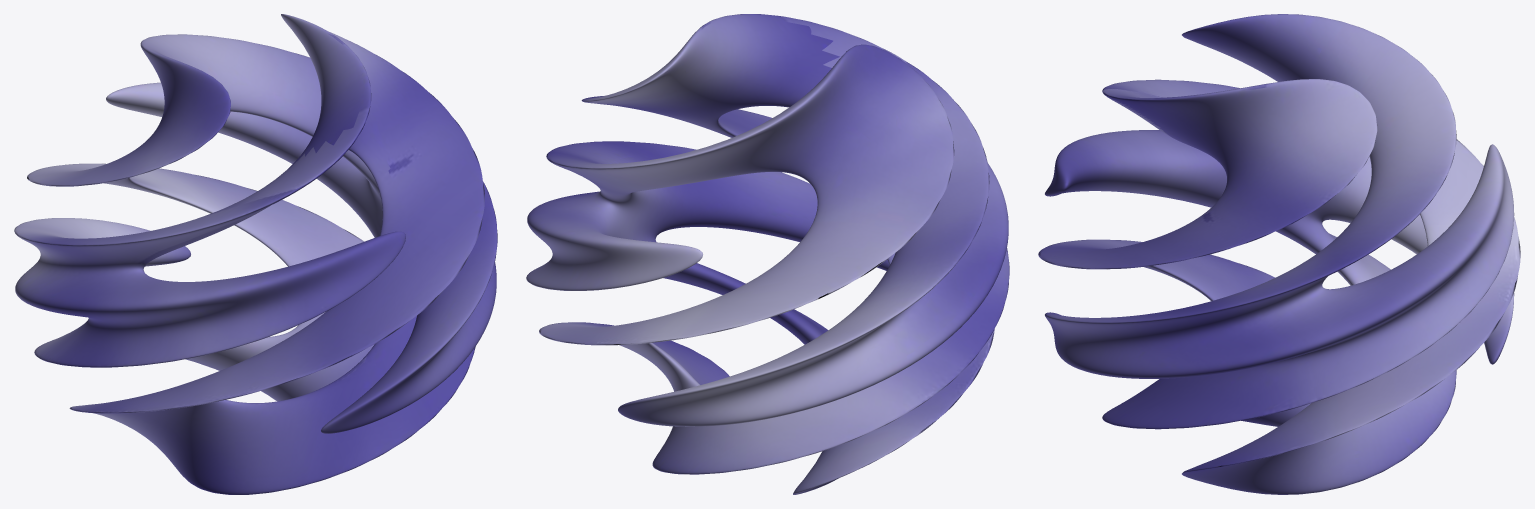
3 renders of one model, left to right at view 1: azimuth 30°, elevation 25°; view 2: azimuth 150°, elevation 25°; view 3: azimuth 270°, elevation 25°, orthographic.
Visible parts, largest first — view 1: Torus; view 2: Torus; view 3: Torus.
Boxes of the visible parts, x1,y1,x2,y2 form: Torus: (14, 14, 497, 494); Torus: (526, 14, 1009, 494); Torus: (1038, 14, 1520, 494).
Size of the model in its own units: 2.47 by 2.32 by 2.45.
1 material, 1 textured.
